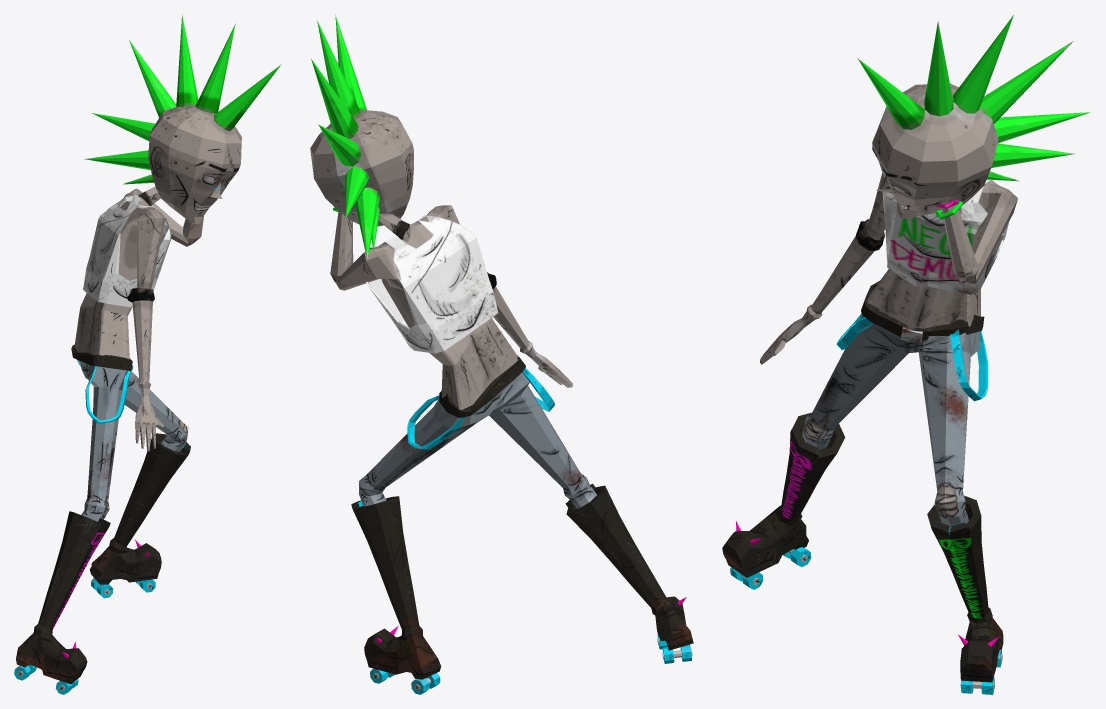
Rendered from punkAnimation_000055.obj.
The picture shows the model from 3 angles, left to right: view 1: azimuth 30°, elevation 25°; view 2: azimuth 150°, elevation 25°; view 3: azimuth 270°, elevation 25°; orthographic projection. The views are drawn at different scales.
Parts seen in each view (by area): view 1: Cube.004_Cube.003; view 2: Cube.004_Cube.003; view 3: Cube.004_Cube.003.
Boxes of the visible parts, x1=… form: Cube.004_Cube.003: x1=14, y1=14, x2=281, y2=694; Cube.004_Cube.003: x1=310, y1=14, x2=693, y2=694; Cube.004_Cube.003: x1=722, y1=15, x2=1090, y2=694.
Size of the model in its own units: 3.67 by 6.68 by 3.11.
